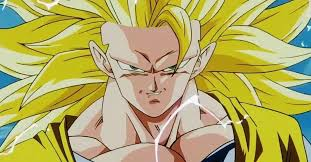Songoku: (88, 11, 214, 118)
